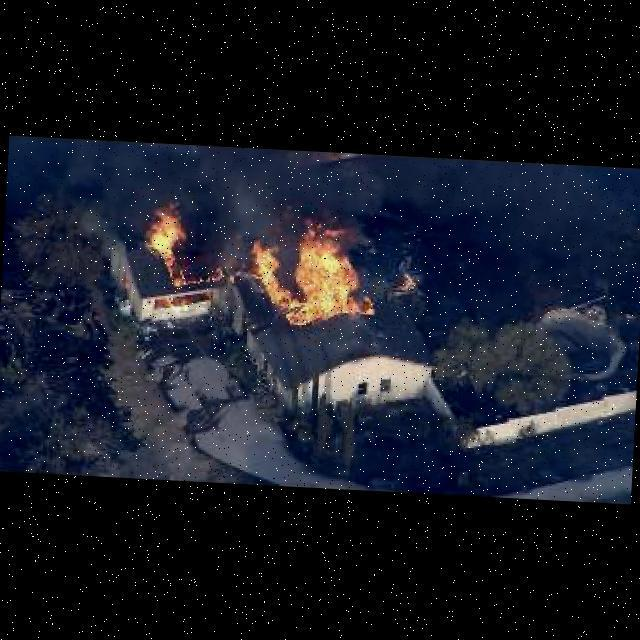Fire: (288, 211, 380, 329), (142, 195, 191, 287), (249, 240, 306, 309), (400, 270, 415, 291), (208, 264, 223, 281), (190, 277, 204, 282), (228, 274, 235, 284)
